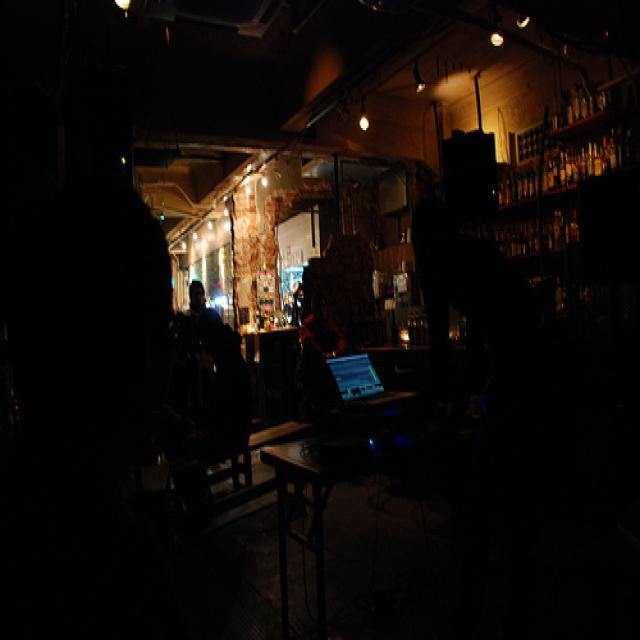People: (162, 258, 234, 369)
Table: (251, 391, 433, 637)
